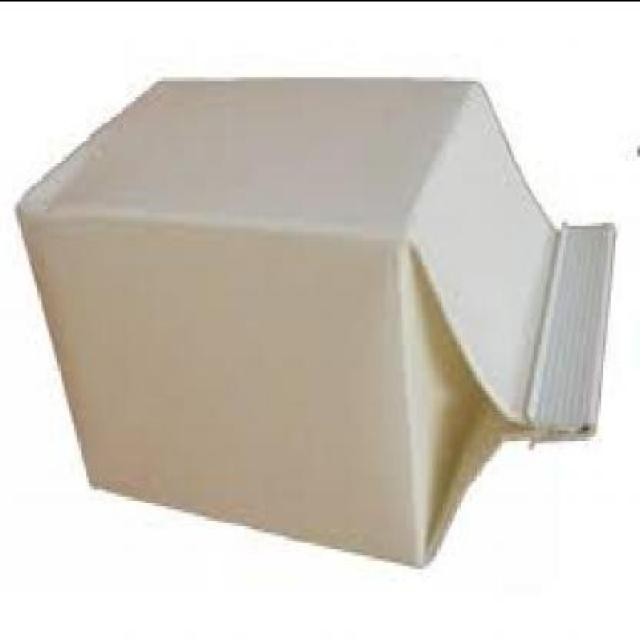CARDBOARD: (23, 76, 620, 564)
